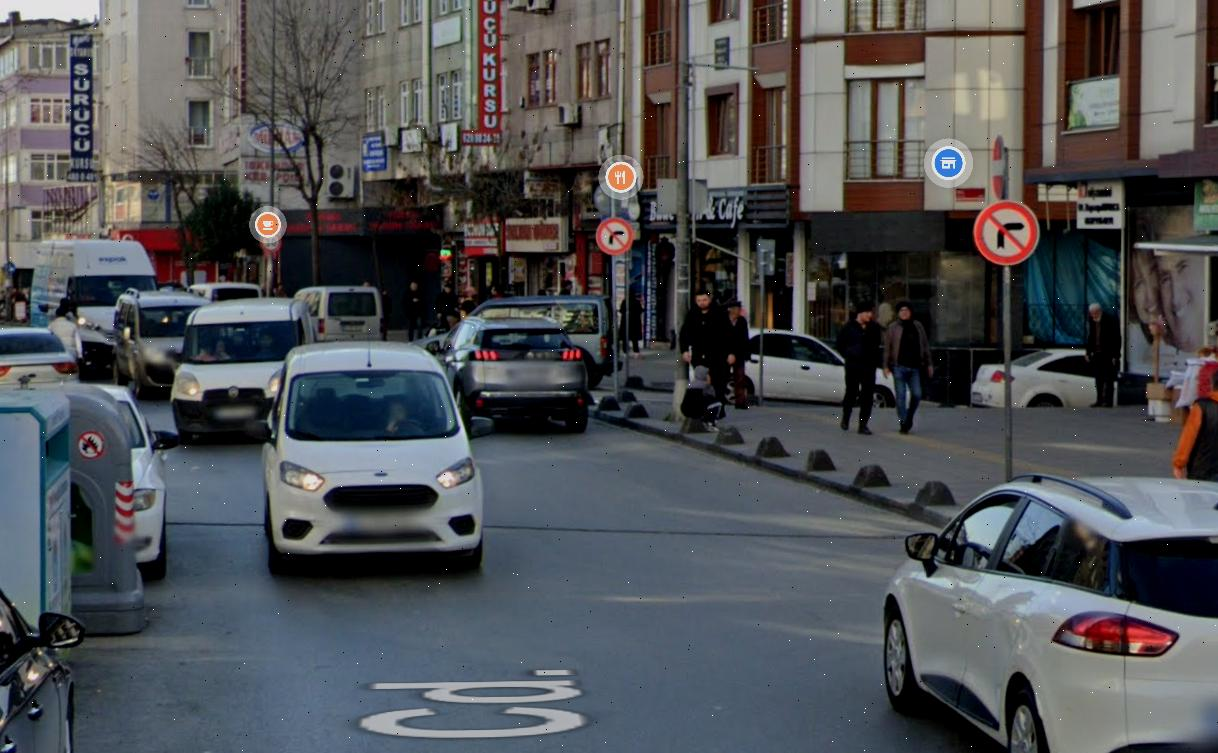rightturnsareforbidden: (974, 201, 1038, 264), (597, 217, 635, 255)
